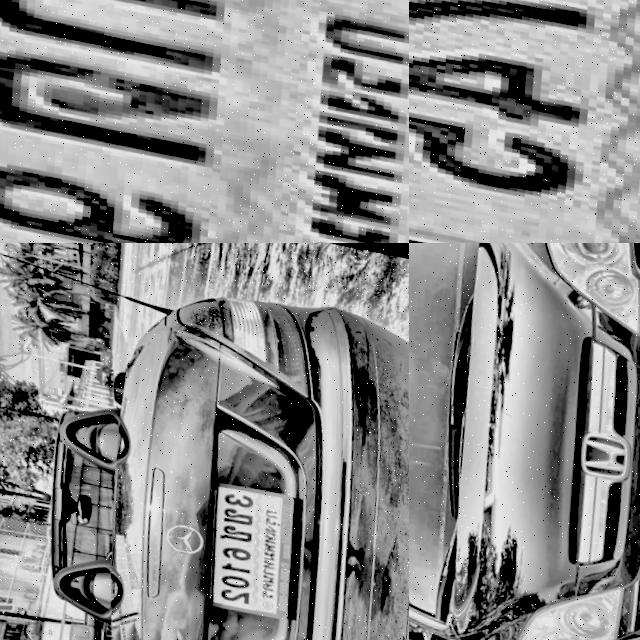license-plate: (0, 0, 409, 243), (409, 0, 640, 243), (186, 472, 307, 620)
